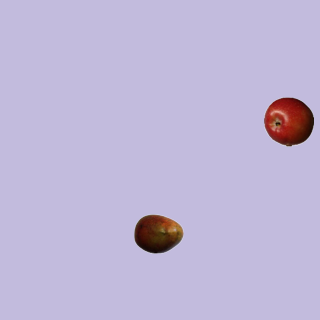Apple Braeburn: (263, 96, 313, 146)
Mango Red: (133, 208, 183, 258)
